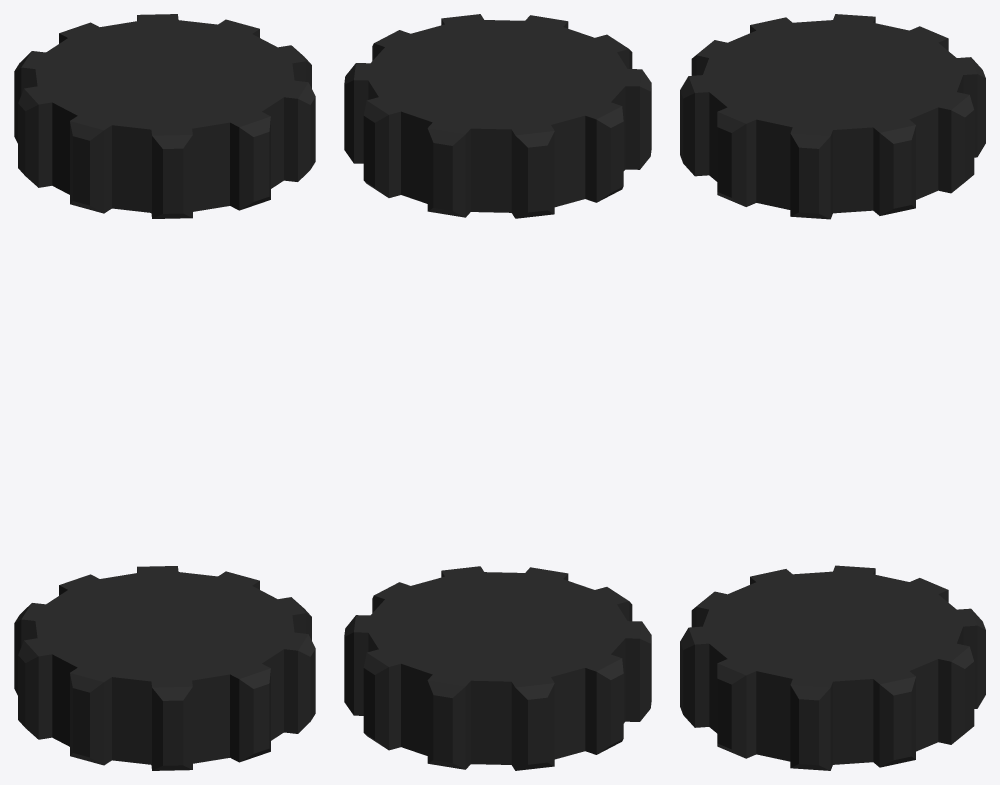
Rendered from CryoTube_Covers.fbx.
The picture shows the model from 3 angles, left to right: view 1: azimuth 30°, elevation 25°; view 2: azimuth 150°, elevation 25°; view 3: azimuth 270°, elevation 25°; orthographic projection.
Visible parts, largest first — view 1: CoversTopAndBottom; view 2: CoversTopAndBottom; view 3: CoversTopAndBottom.
Part boxes in pixels (bbox=[...]): CoversTopAndBottom: bbox=[14, 14, 315, 770]; CoversTopAndBottom: bbox=[344, 14, 651, 770]; CoversTopAndBottom: bbox=[680, 14, 985, 770].
Bounding box in the file's own units: 84.23 × 193 × 84.23.
